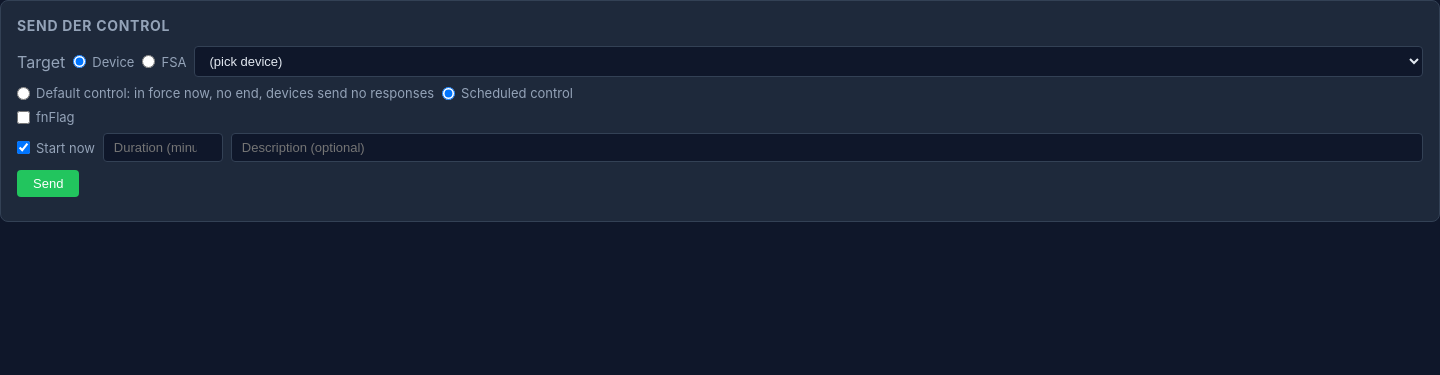
Test: DerControl, FSA target: a scheduled control › counts only the devices that hold a copy
Click the radio button with test id "control-target-fsa" at (149,62), box [142,55,156,68]
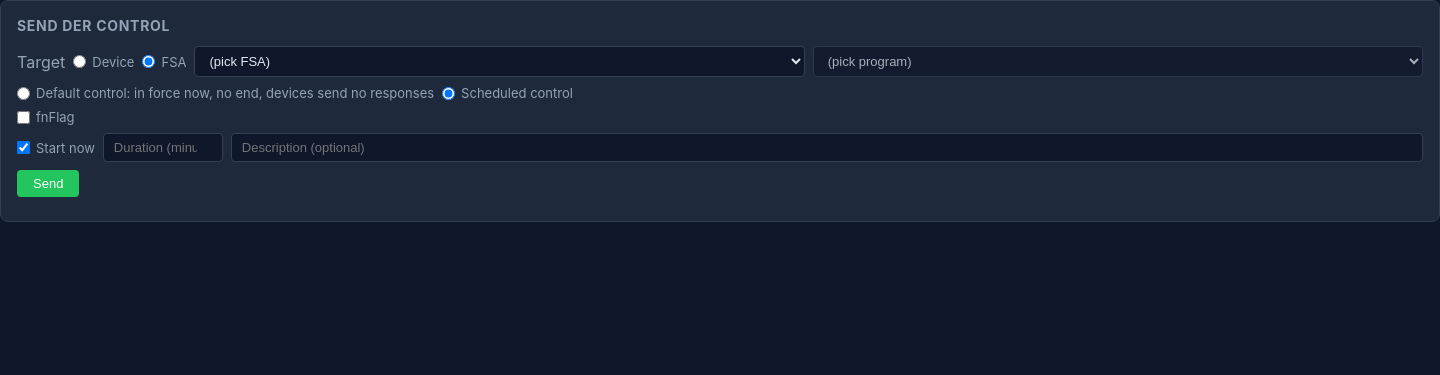
Select "feeder A" in the dropdown with id "controlFsa" at (500,62), box [194,46,805,77]
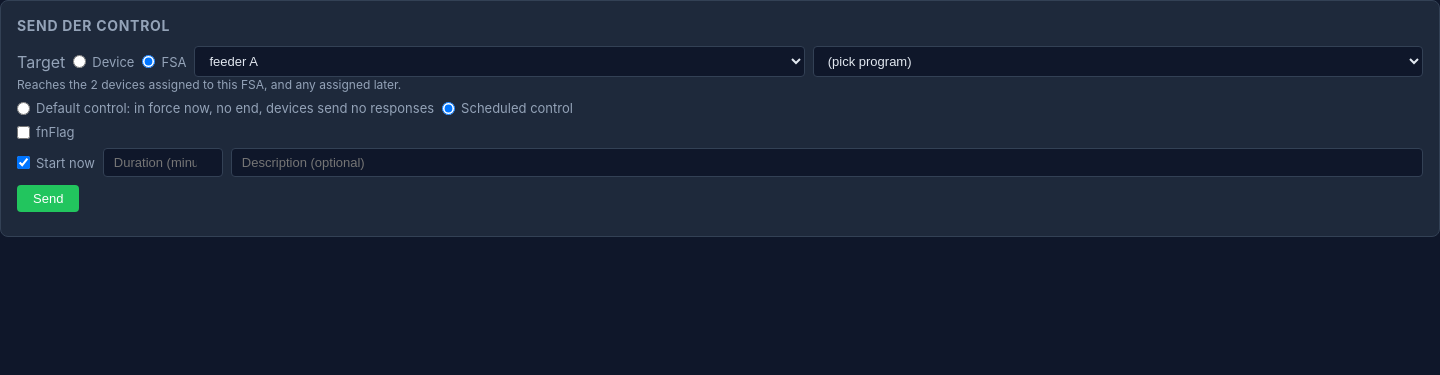
Select "tmpl one" in the dropdown with id "controlFsaProgram" at (1118,62), box [813,46,1423,77]
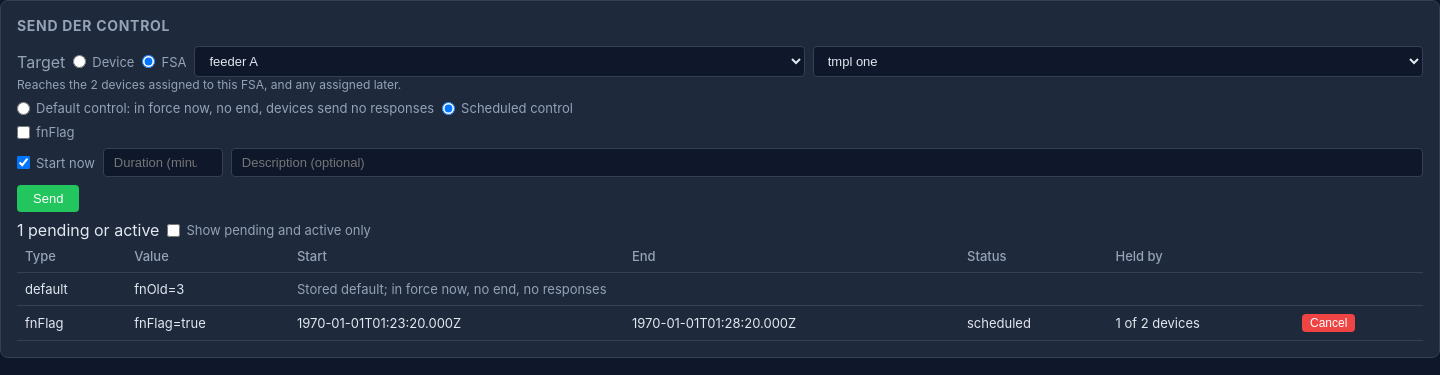
Result: the cell with test id "fsa-control-holding" reads "1 of 2 devices" at [1116,315,1200,331]
